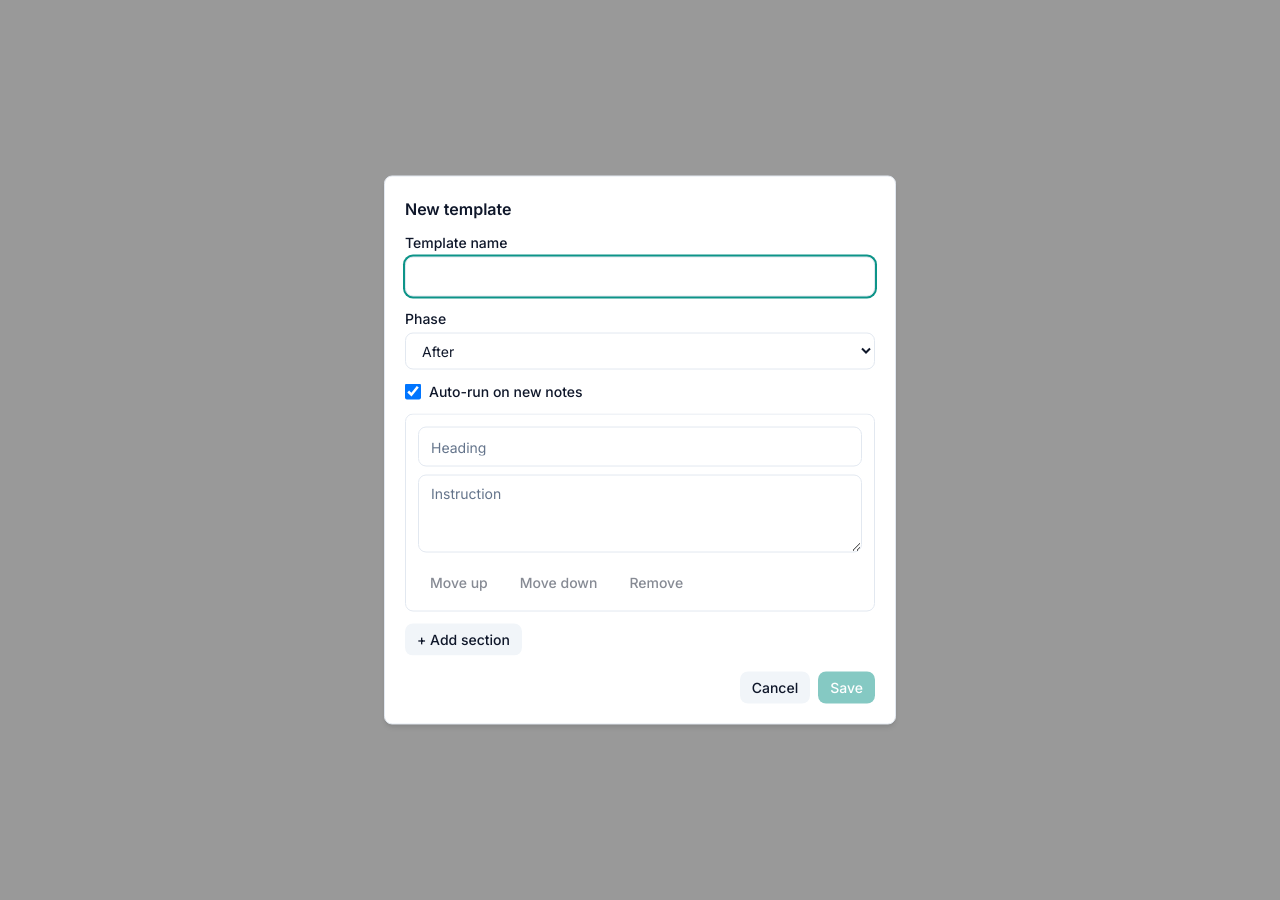
Test: TemplateEditor › disables save until name and section are filled, then enables it
Expected: the button "Save" is disabled, 818,672 -> 875,704
Type "Standup" into the field labelled "Template name" at (640, 276), box 405,256 -> 875,296
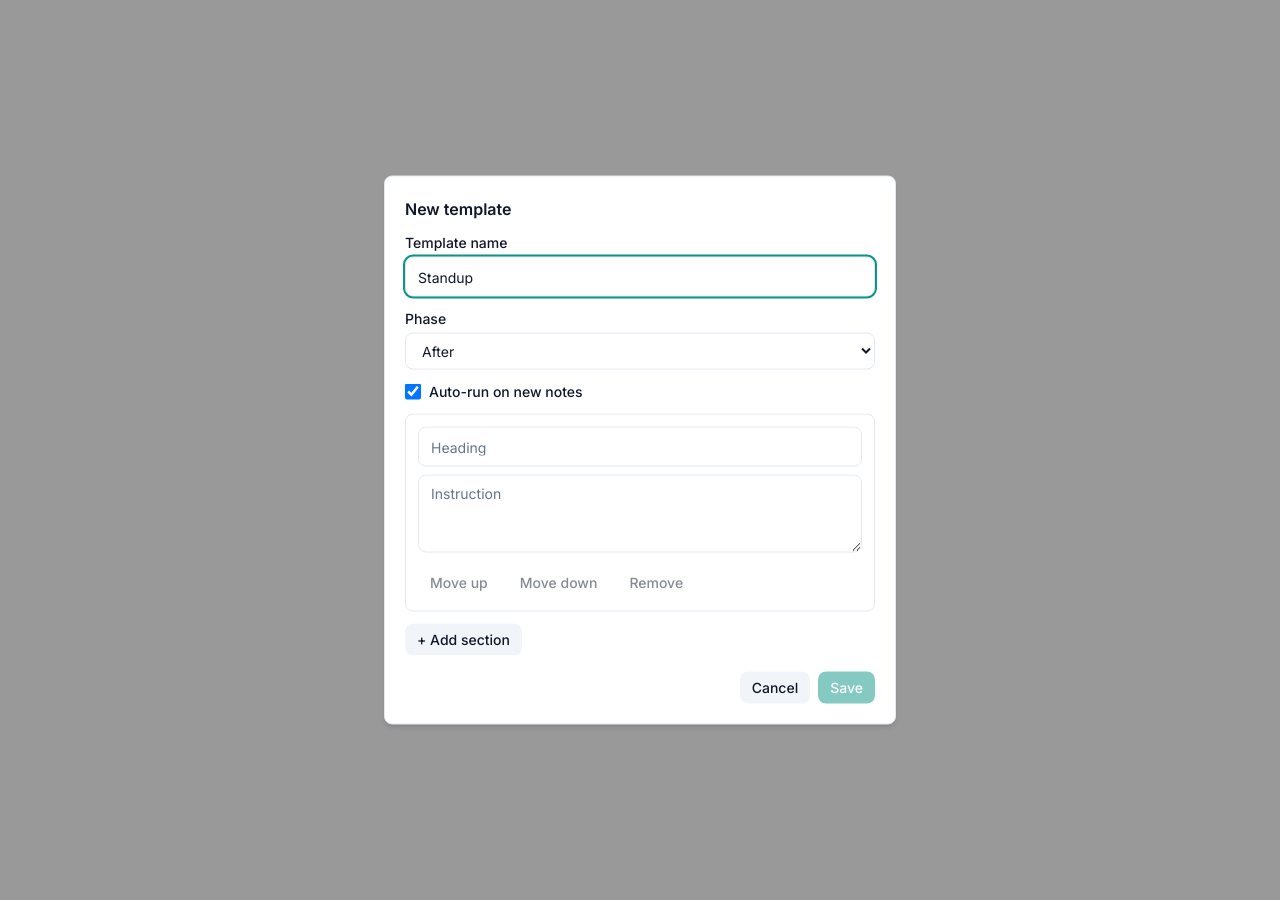
Type "Action items" into the field named "Section 1 heading" at (640, 446), box 418,426 -> 862,466
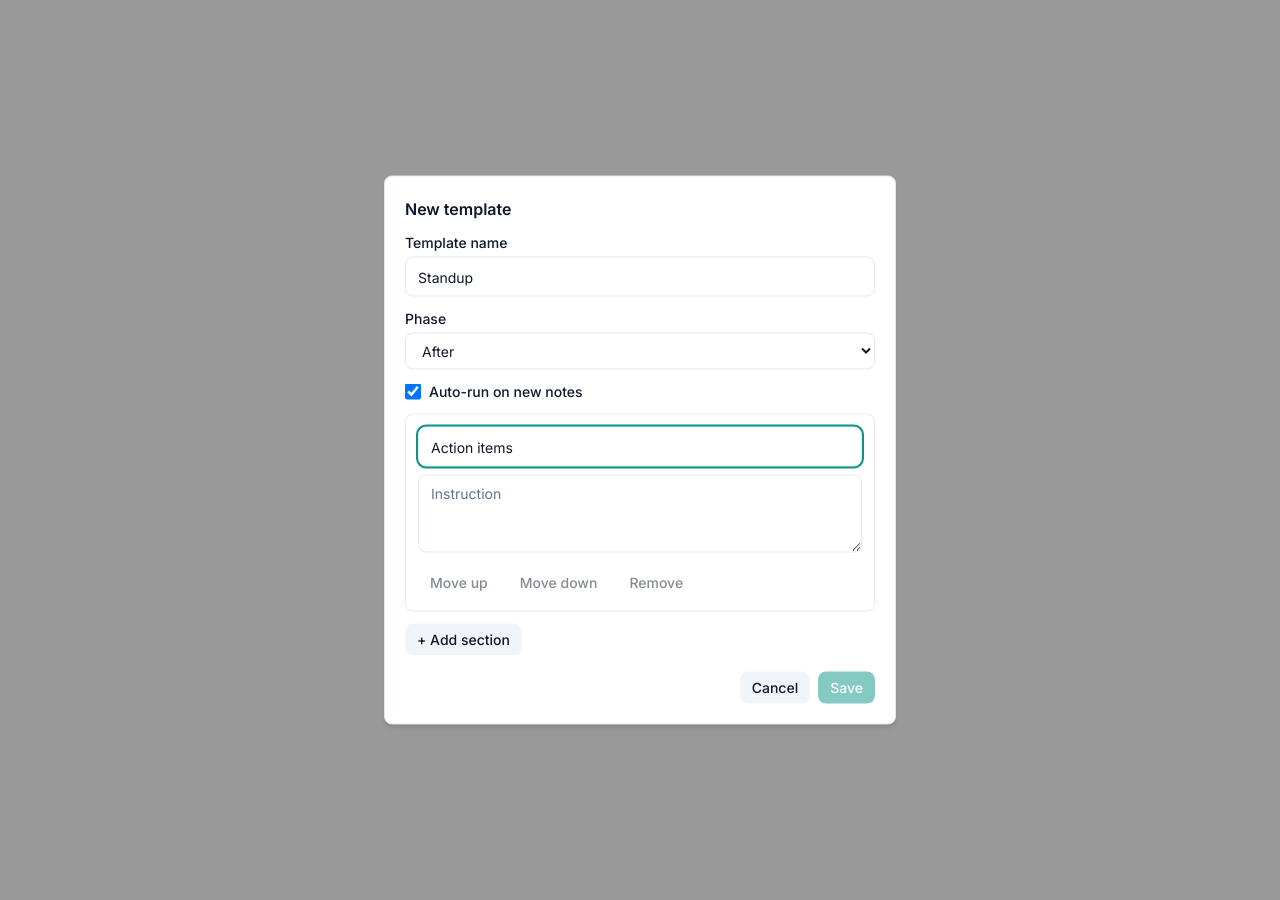
Type "List the action items" into the text box named "Section 1 instruction" at (640, 514), box 418,474 -> 862,552
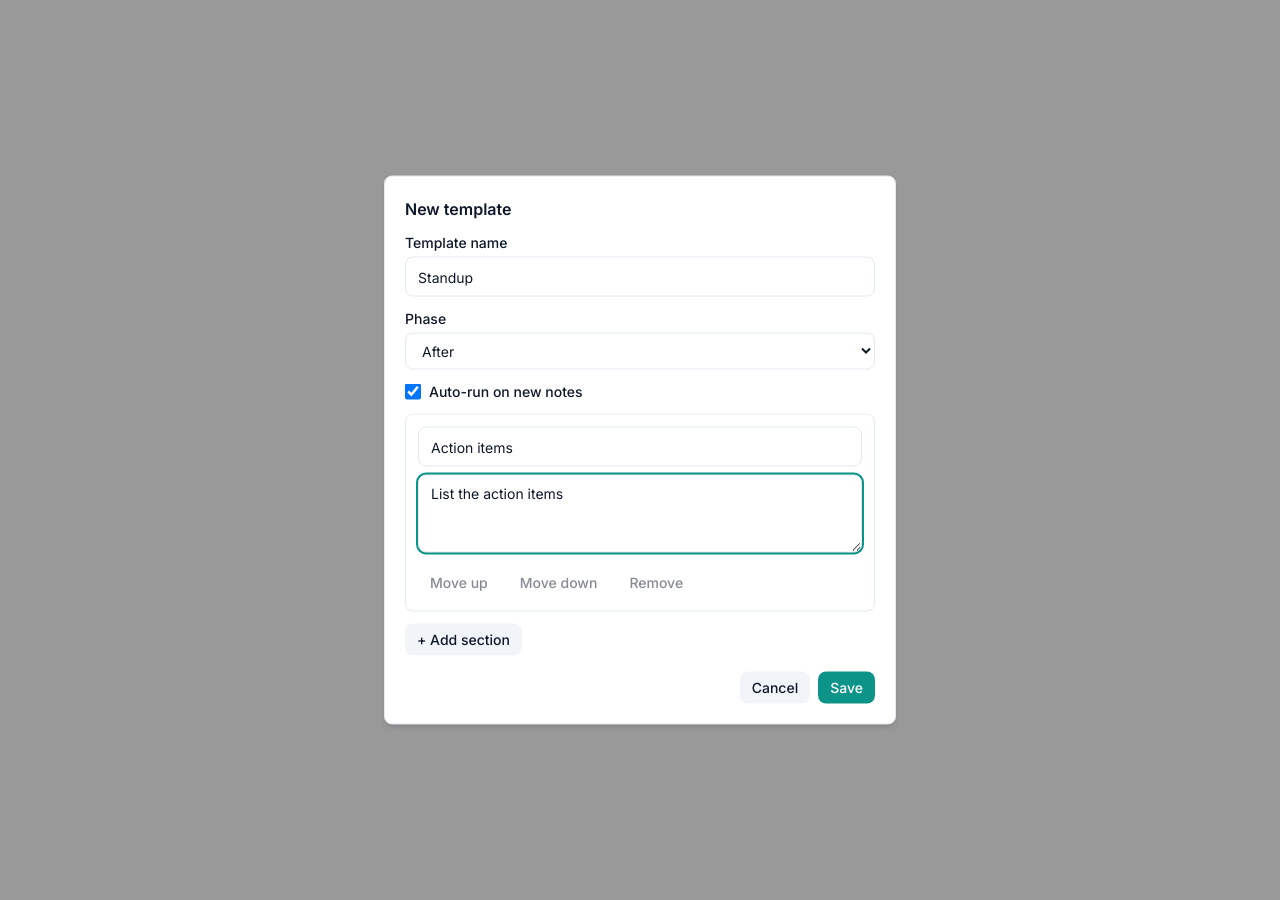
Expected: the button "Save" is enabled, 818,672 -> 875,704
